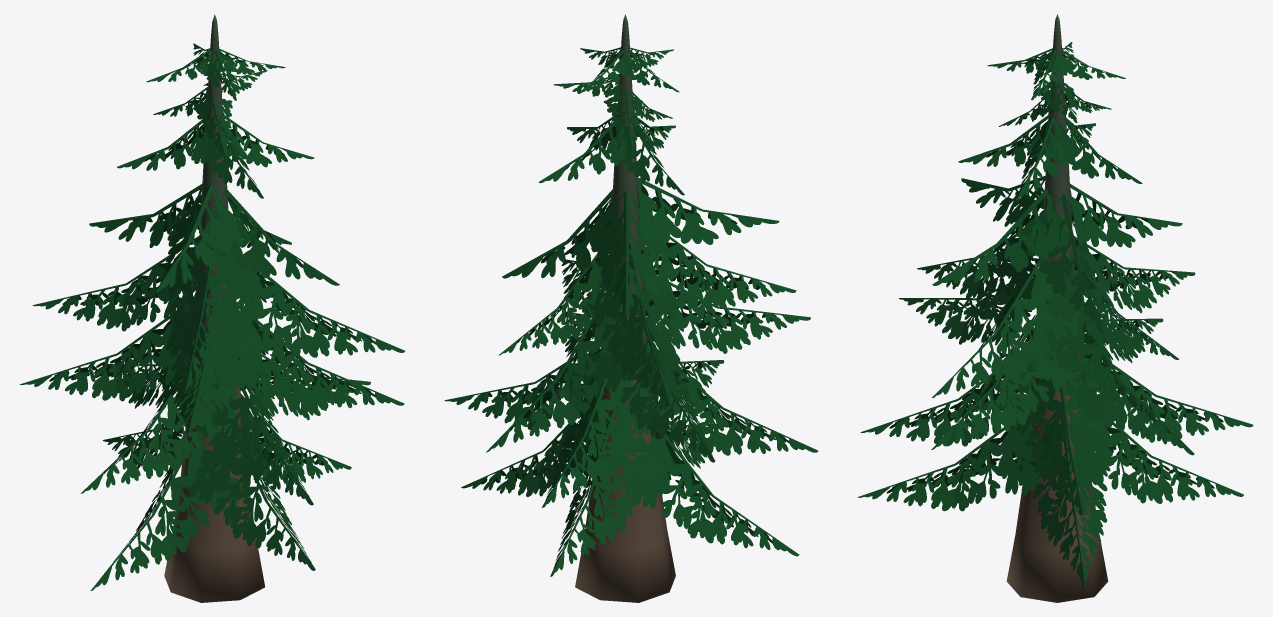
File: PineTree.fbx
The picture shows the model from 3 angles, left to right: view 1: azimuth 30°, elevation 25°; view 2: azimuth 150°, elevation 25°; view 3: azimuth 270°, elevation 25°; orthographic projection.
Parts seen in each view (by area): view 1: Cube.006, Plane.028, Plane.027, Plane.023, Plane.024, Plane.005, Plane, Plane.007, Plane.002, Plane.006, Plane.029, Plane.016 (+14 smaller); view 2: Cube.006, Plane.029, Plane.024, Plane.025, Plane.003, Plane.007, Plane.028, Plane.008, Plane.002, Plane.006, Plane.017, Plane.016 (+14 smaller); view 3: Cube.006, Plane.023, Plane.008, Plane.027, Plane.004, Plane.026, Plane.005, Plane.025, Plane, Plane.003, Plane.019, Plane.006 (+14 smaller).
Boxes of the visible parts, box(x1,y1,x2,y2) form: Cube.006: box(164, 14, 264, 602); Plane.028: box(165, 228, 260, 393); Plane.027: box(220, 259, 404, 357); Plane.023: box(186, 426, 315, 570); Plane.024: box(90, 425, 242, 590); Plane.005: box(218, 308, 404, 410); Plane: box(183, 353, 313, 505); Plane.007: box(20, 306, 198, 401); Plane.002: box(80, 356, 237, 493); Plane.006: box(166, 283, 262, 434); Plane.029: box(32, 236, 199, 331); Plane.016: box(156, 183, 247, 291); Cube.006: box(575, 14, 675, 602); Plane.029: box(582, 244, 677, 406); Plane.024: box(624, 428, 799, 556); Plane.025: box(550, 408, 665, 576); Plane.003: box(542, 372, 654, 507); Plane.007: box(593, 305, 715, 462); Plane.028: box(638, 232, 796, 310); Plane.008: box(486, 315, 649, 452); Plane.002: box(637, 341, 818, 455); Plane.006: box(644, 275, 810, 353); Plane.017: box(587, 190, 661, 315); Plane.016: box(637, 177, 779, 244); Cube.006: box(1006, 14, 1108, 602); Plane.023: box(857, 426, 1040, 511); Plane.008: box(1030, 294, 1194, 455); Plane.027: box(932, 257, 1083, 397); Plane.004: box(1017, 357, 1100, 515); Plane.026: box(1018, 411, 1113, 587); Plane.005: box(931, 314, 1082, 449); Plane.025: box(1071, 422, 1243, 503); Plane: box(860, 362, 1037, 446); Plane.003: box(1075, 353, 1253, 442); Plane.019: box(932, 188, 1071, 285); Plane.006: box(899, 274, 1037, 347).
Size of the model in its own units: 733 by 1129 by 710.
